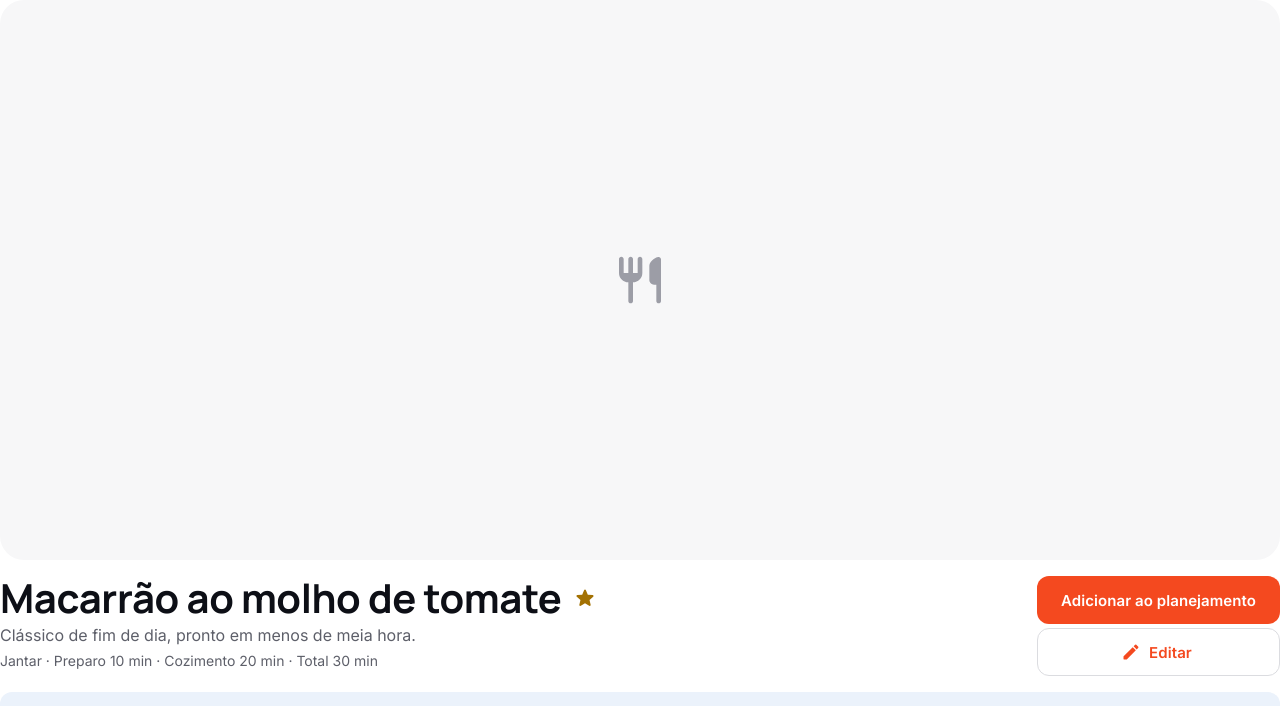
it: RecipeDetailPage › adds the recipe to the plan
The image size is (1280, 706).
Expected: the heading "Macarrão ao molho de tomate" is shown, [0,576,561,621]
Click the button "Adicionar ao planejamento". click: (1158, 600)
box: [1037,576,1279,624]
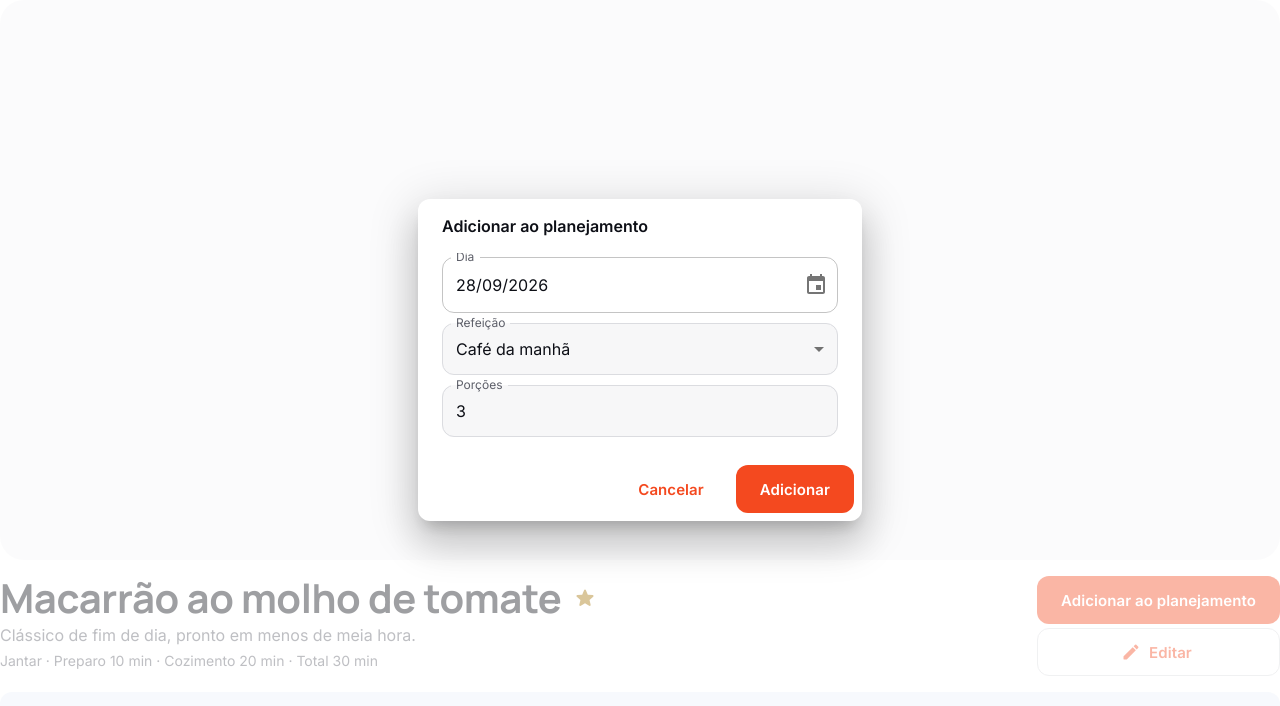
Click the button "Adicionar". click: (795, 489)
box: [736,465,854,513]
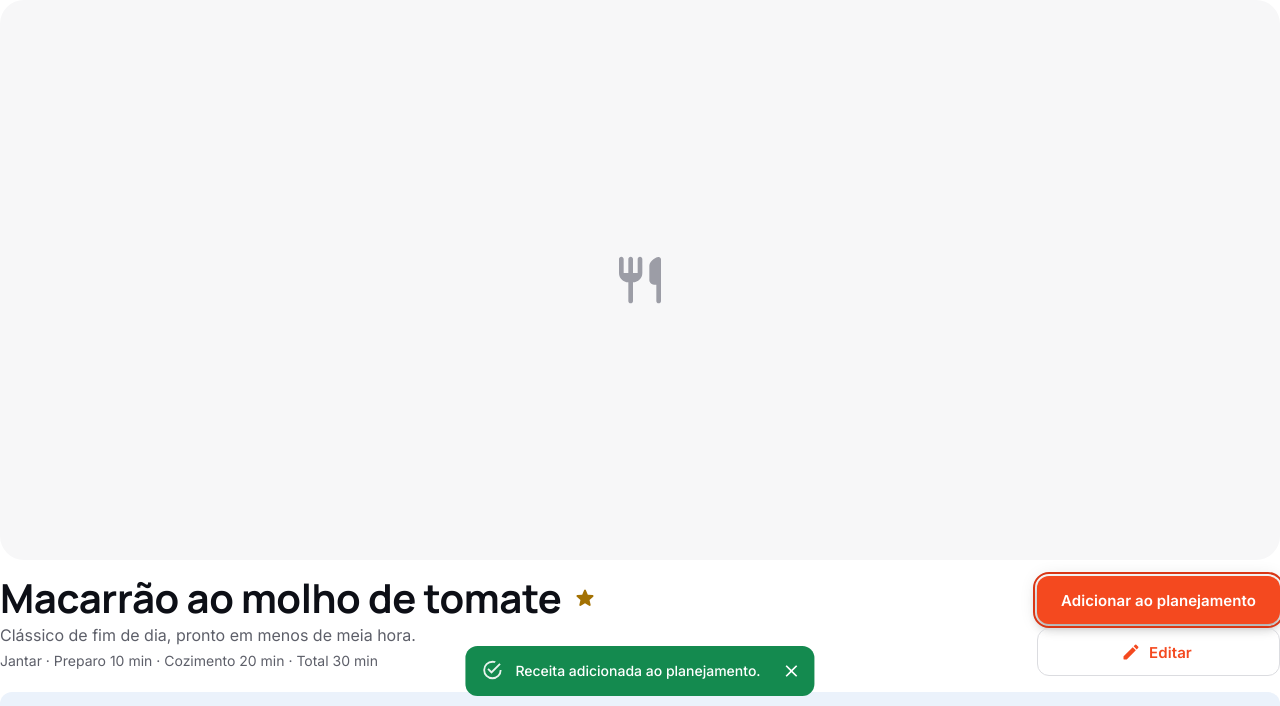
Expected: the text "Receita adicionada ao planejamento." is shown, [515,662,761,679]
